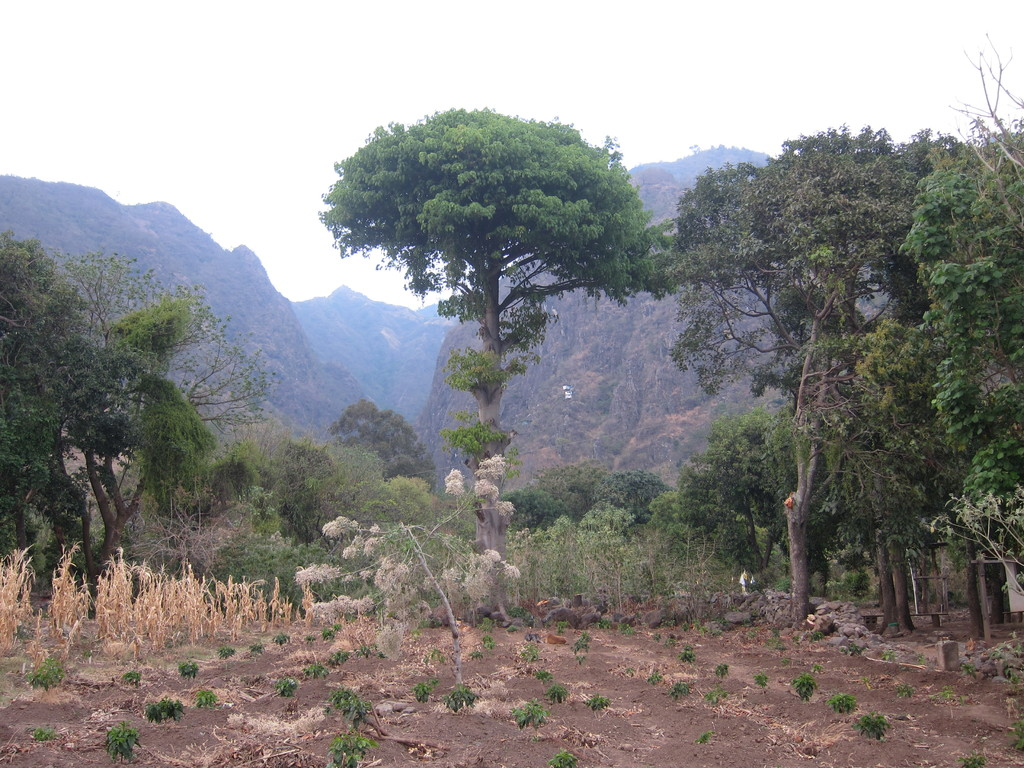Tree: (640, 104, 1023, 617), (315, 101, 673, 552), (0, 229, 138, 621), (76, 281, 218, 602), (55, 239, 269, 420), (328, 388, 442, 471), (256, 436, 330, 563), (330, 436, 382, 518)
